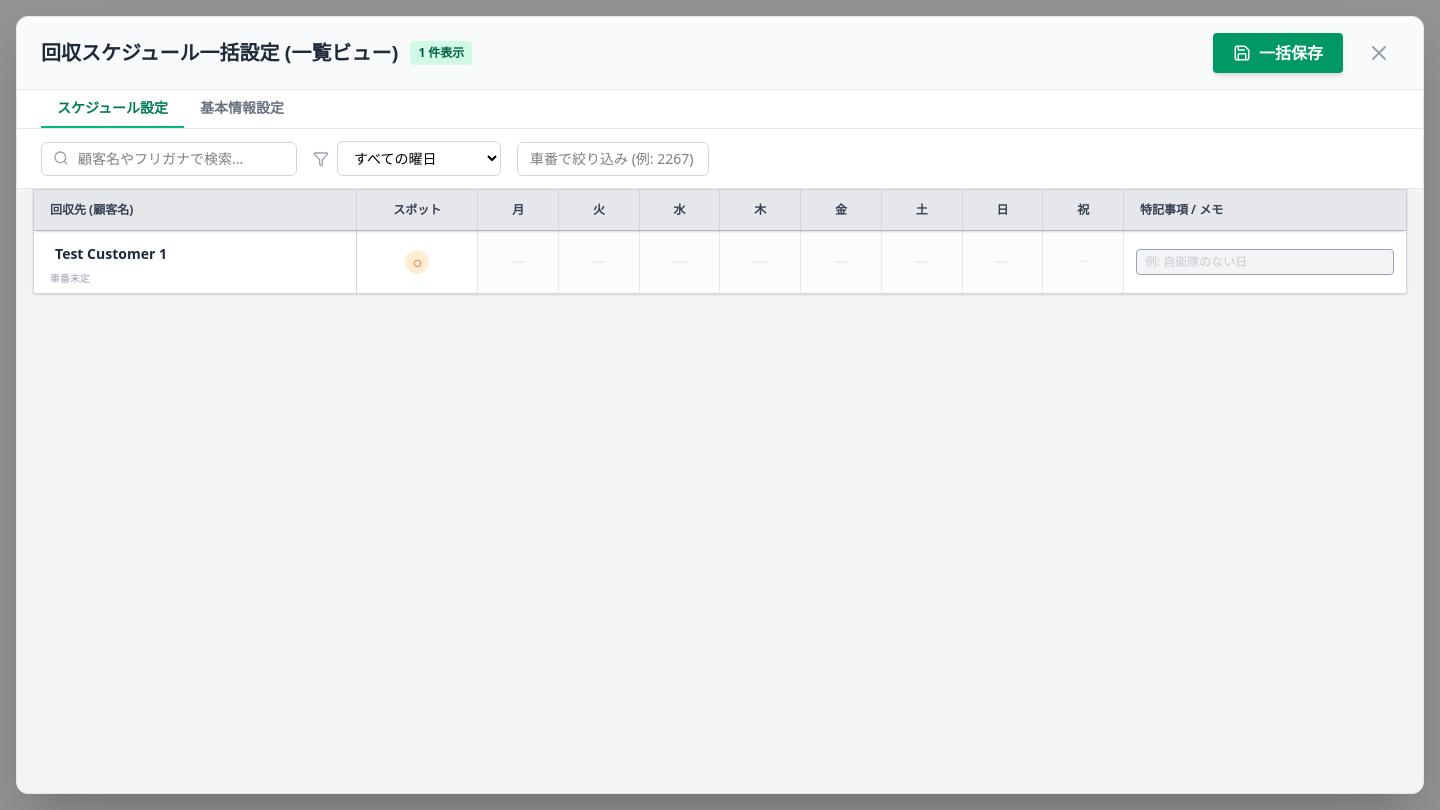
it: CustomerScheduleGridModal › renders tabs and switches between them
Check: the button "スケジュール設定" is shown, box [41,90,184,128]
Check: the column heading "月" is shown, box [478,190,559,230]
// 基本情報設定タブをクリック
Click the button "基本情報設定" at (242,109), box [184,90,300,128]
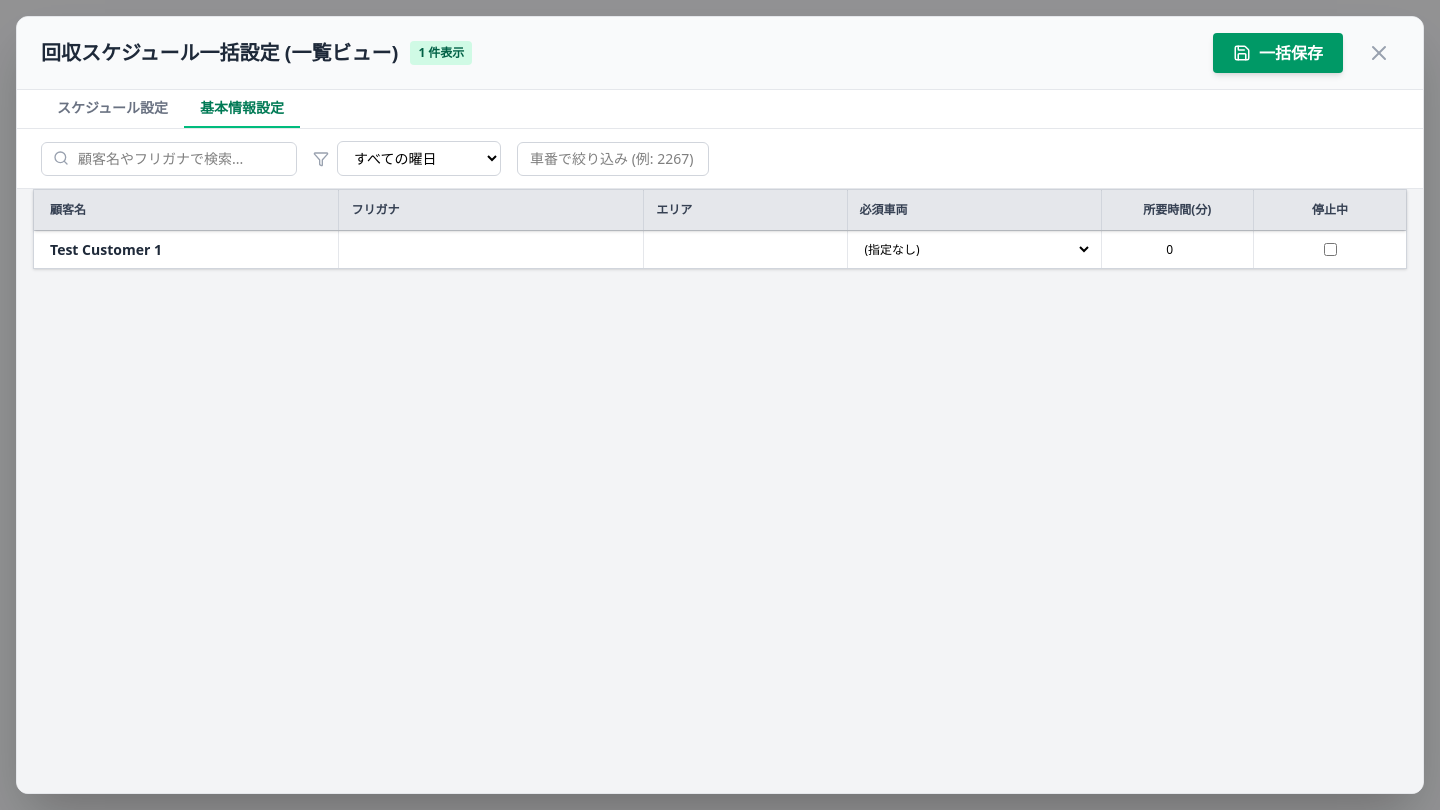
Check: the column heading "フリガナ" is shown, box [339,190,644,230]
Check: the column heading "必須車両" is shown, box [847,190,1101,230]
